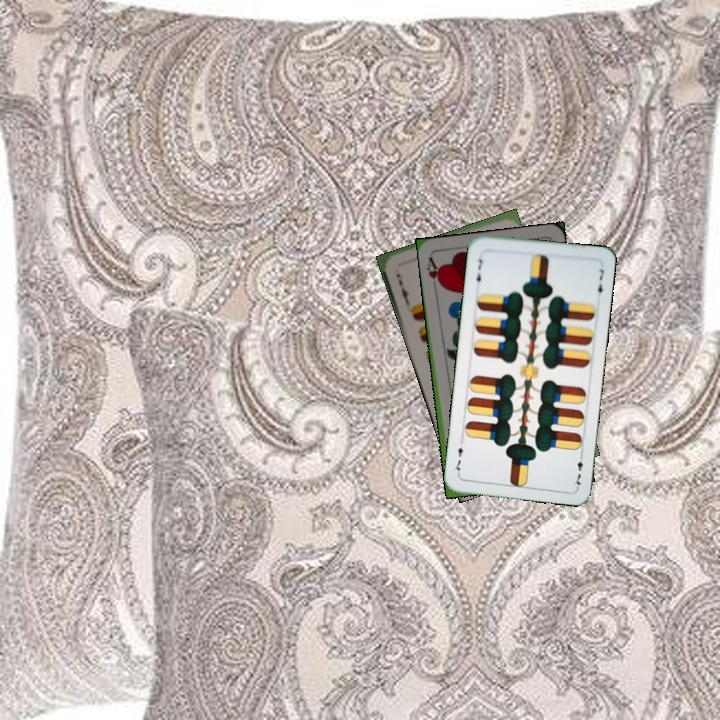E7: (392, 269, 412, 305), (570, 449, 586, 489), (471, 254, 485, 289)
HA: (423, 253, 445, 293)
